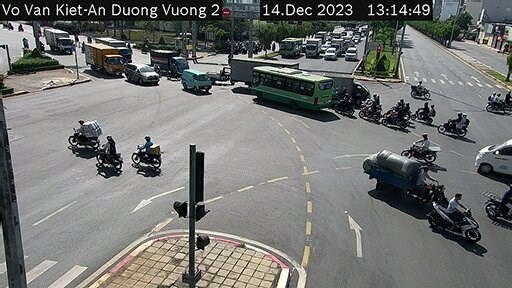bus: (247, 62, 334, 108)
car: (476, 136, 512, 176), (122, 62, 165, 89), (178, 67, 211, 96), (325, 47, 337, 61), (346, 47, 358, 60)
motorbike: (430, 193, 482, 245), (89, 133, 121, 175), (64, 116, 99, 152), (130, 137, 161, 170), (408, 133, 438, 162), (446, 106, 472, 139), (393, 97, 416, 119), (409, 79, 432, 98), (416, 99, 432, 123)
truck: (227, 52, 298, 87), (311, 66, 373, 105), (82, 44, 121, 79), (151, 46, 190, 73), (93, 33, 136, 57), (44, 29, 76, 57), (301, 35, 319, 62), (285, 37, 304, 58)
